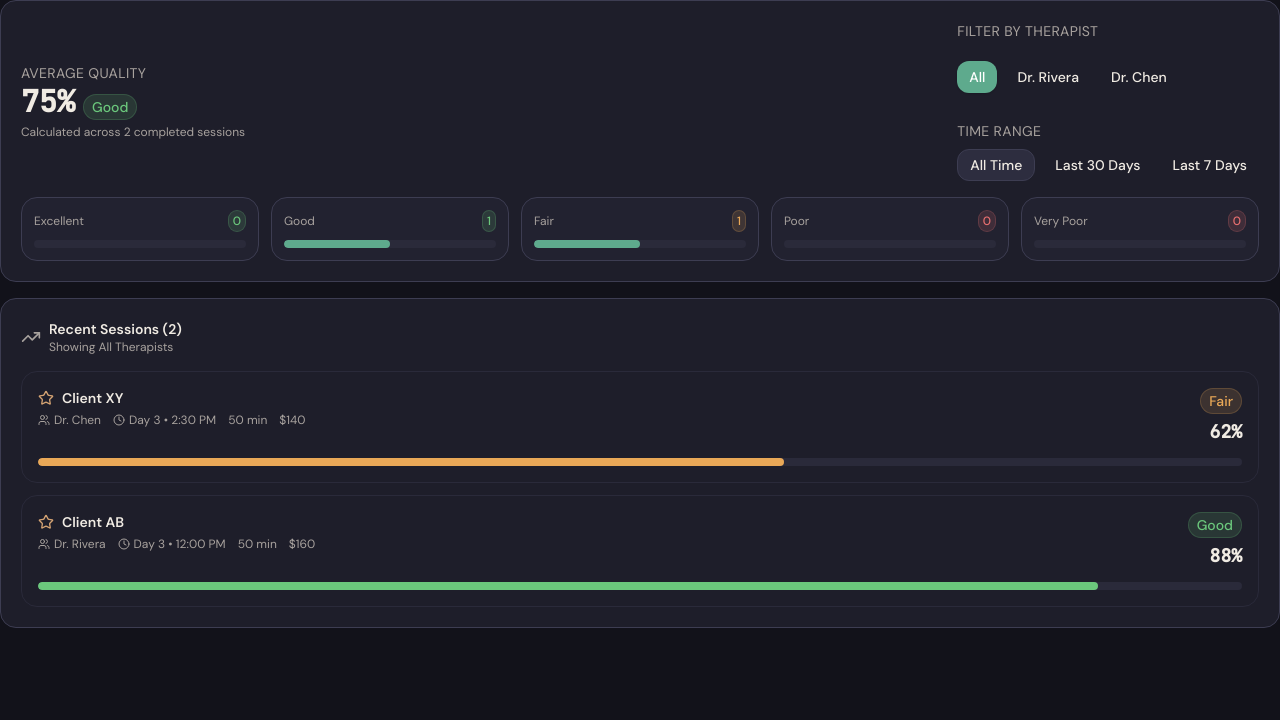
Test case: SessionHistoryPanel › therapist filtering › shows correct filter name in header
Expected: the text "Showing All Therapists" is shown, top-left (49, 339), bottom-right (182, 355)
Click the button "Dr. Rivera" at (1048, 77), box top-left (1006, 61), bottom-right (1091, 93)
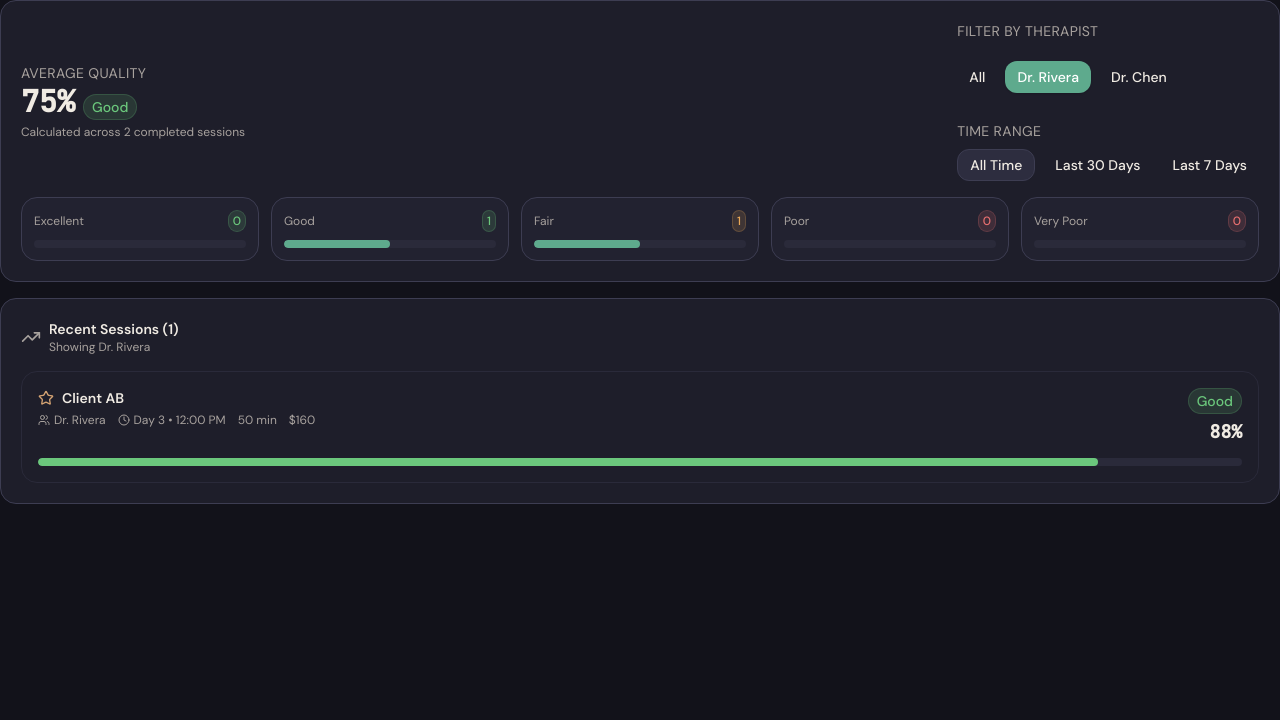
Now the text "Showing Dr. Rivera" is shown, box top-left (49, 339), bottom-right (150, 355)
